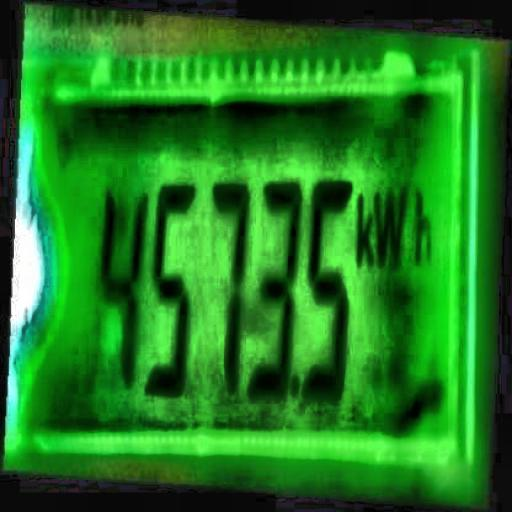DISPLAY_REGION: (2, 47, 476, 478)
SERIAL_REGION: (96, 171, 421, 412)
